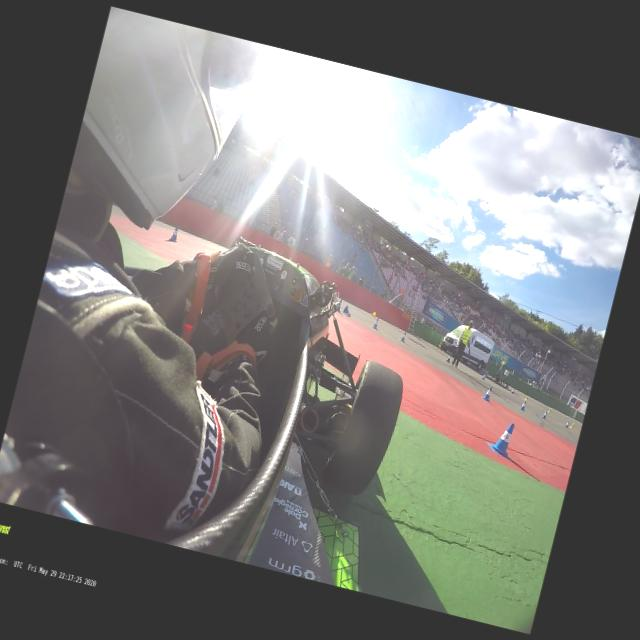blue_cone: (488, 420, 518, 458), (168, 225, 180, 242), (482, 384, 493, 402), (342, 305, 352, 317), (372, 317, 379, 330), (399, 331, 406, 342), (520, 400, 526, 411), (337, 298, 342, 311), (540, 411, 547, 419), (445, 353, 451, 362), (564, 420, 569, 428), (481, 373, 485, 380), (510, 387, 514, 394)
yellow_cone: (522, 394, 528, 402), (546, 407, 552, 413), (569, 422, 574, 428), (370, 311, 376, 316)
